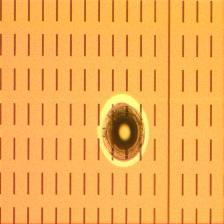PARTICLE: (97, 91, 154, 170)
